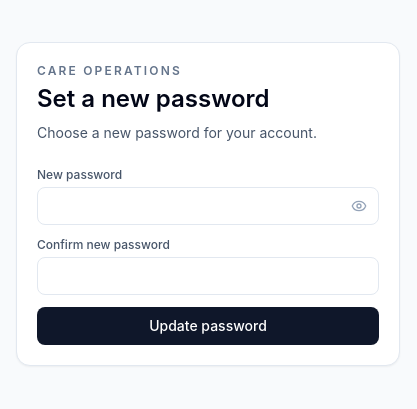
ResetPasswordPage › requires the confirmation to match
Type "longenough1" into the password field labelled "New password" at (208, 206), box [37,187,379,225]
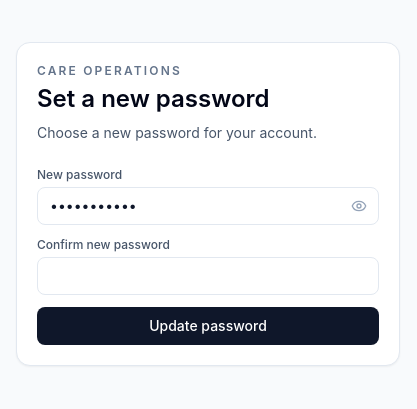
Type "different1" into the password field labelled "Confirm new password" at (208, 276), box [37,257,379,295]
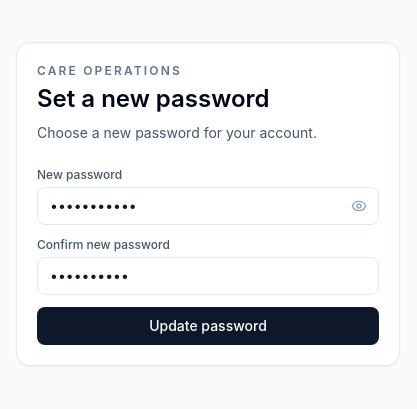
Click the button "Update password" at (208, 326), box [37,307,379,345]
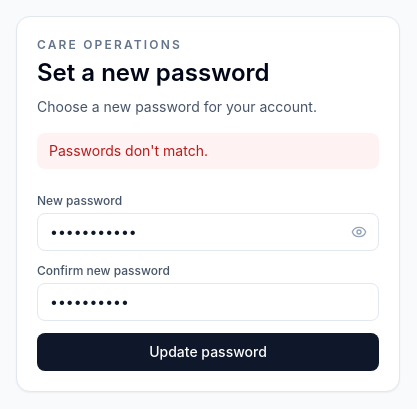
Expected: the text "Passwords don't match." is shown, [37,133,379,169]
